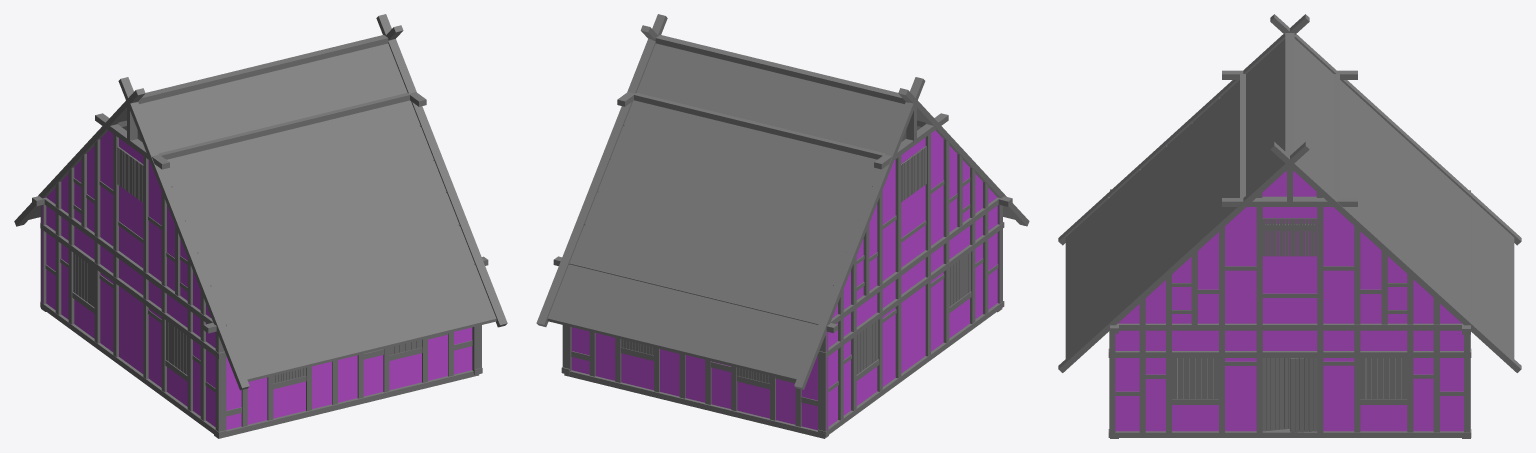
3 views of the same model, side by side, from view 1: azimuth 30°, elevation 25°; view 2: azimuth 150°, elevation 25°; view 3: azimuth 270°, elevation 25° (orthographic).
Parts seen in each view (by area): view 1: ev2cati, ev2, ev2duvar; view 2: ev2cati, ev2, ev2duvar; view 3: ev2cati, ev2, ev2duvar.
Part boxes in pixels (left/top/right/bottom): ev2cati: left=29, top=43, right=496, bottom=381; ev2: left=14, top=14, right=507, bottom=438; ev2duvar: left=41, top=130, right=472, bottom=429; ev2cati: left=547, top=43, right=1014, bottom=381; ev2: left=536, top=14, right=1029, bottom=438; ev2duvar: left=571, top=130, right=999, bottom=430; ev2cati: left=1065, top=39, right=1514, bottom=358; ev2: left=1058, top=14, right=1521, bottom=438; ev2duvar: left=1115, top=171, right=1463, bottom=431.
Size of the model in its own units: 1092 by 1075 by 1531.
